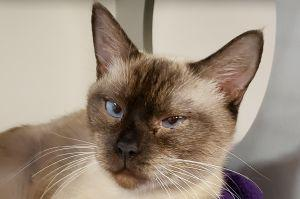siamese: (66, 1, 274, 199)
